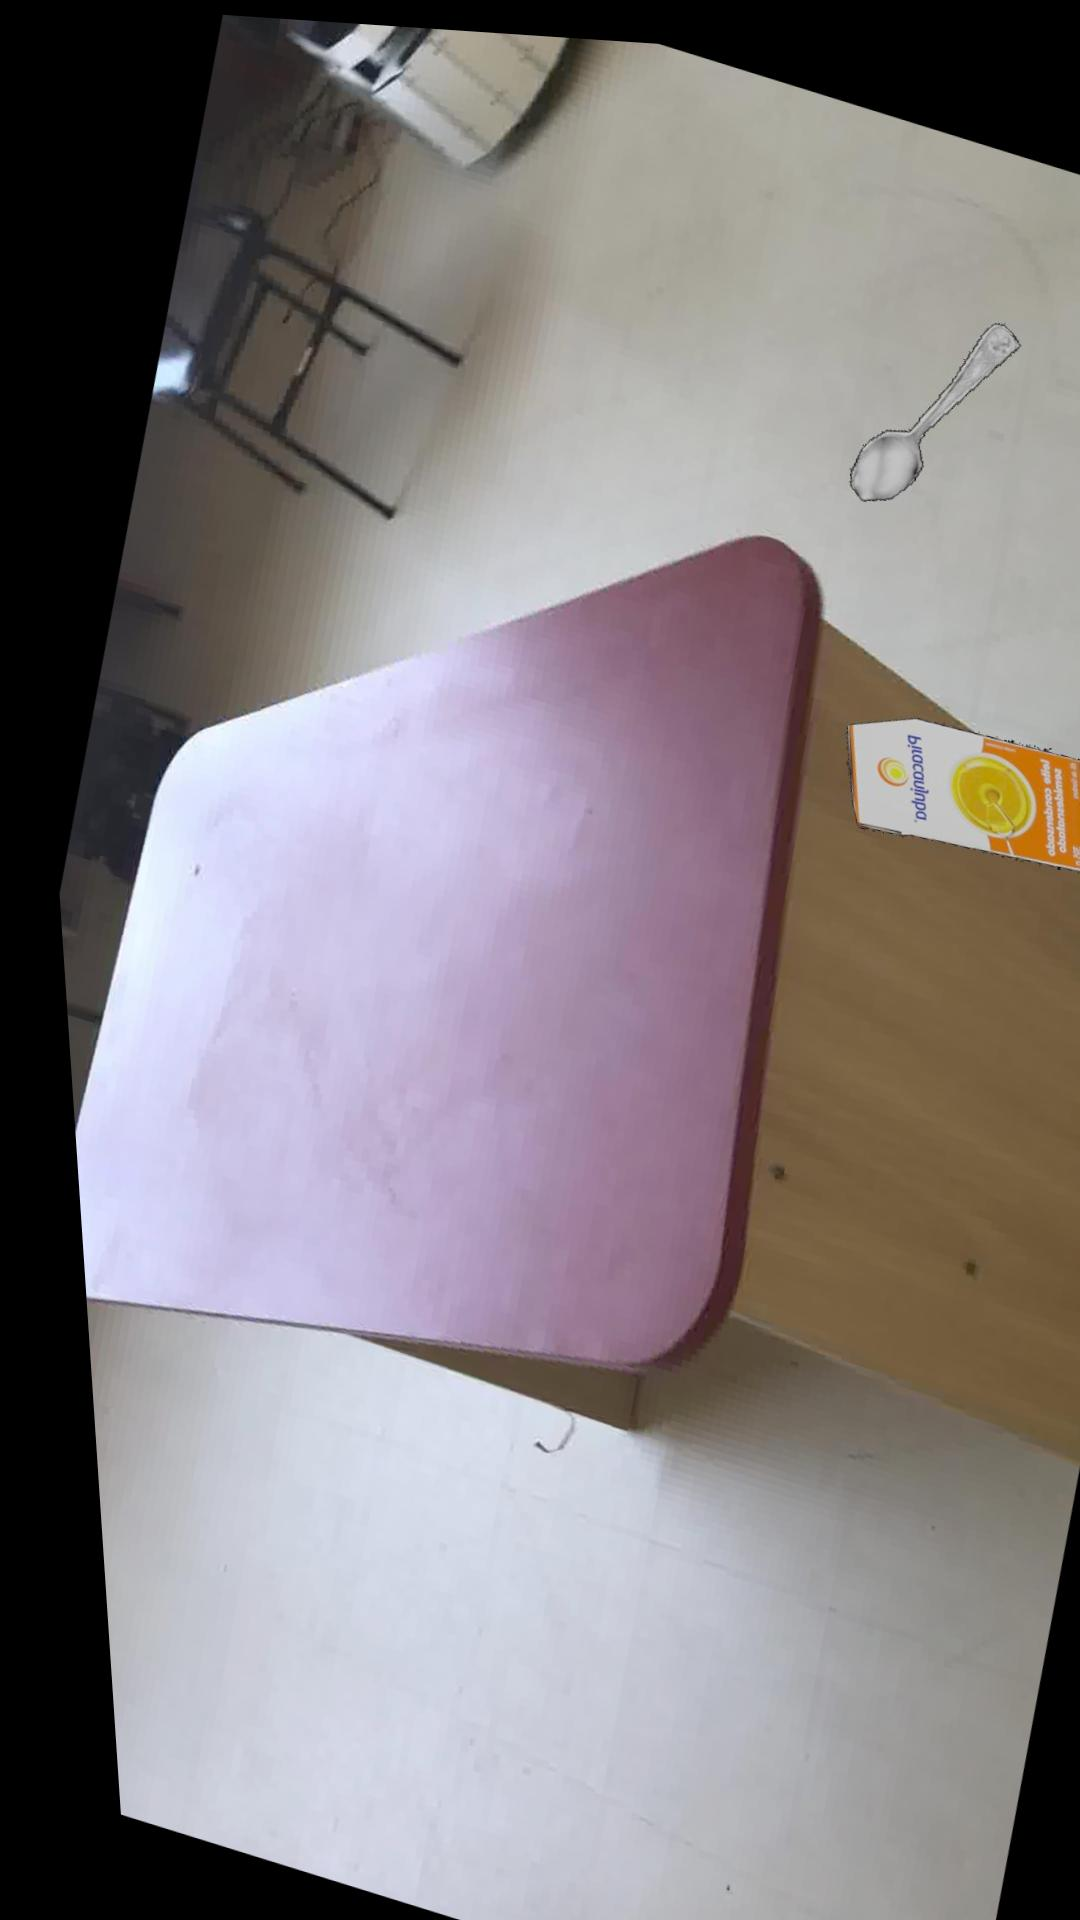spoon: (845, 311, 1018, 492)
